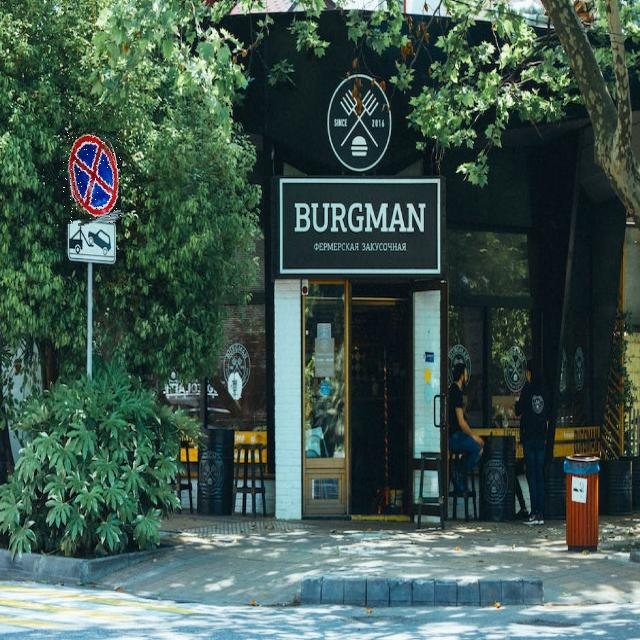no stopping: (63, 131, 121, 224)
